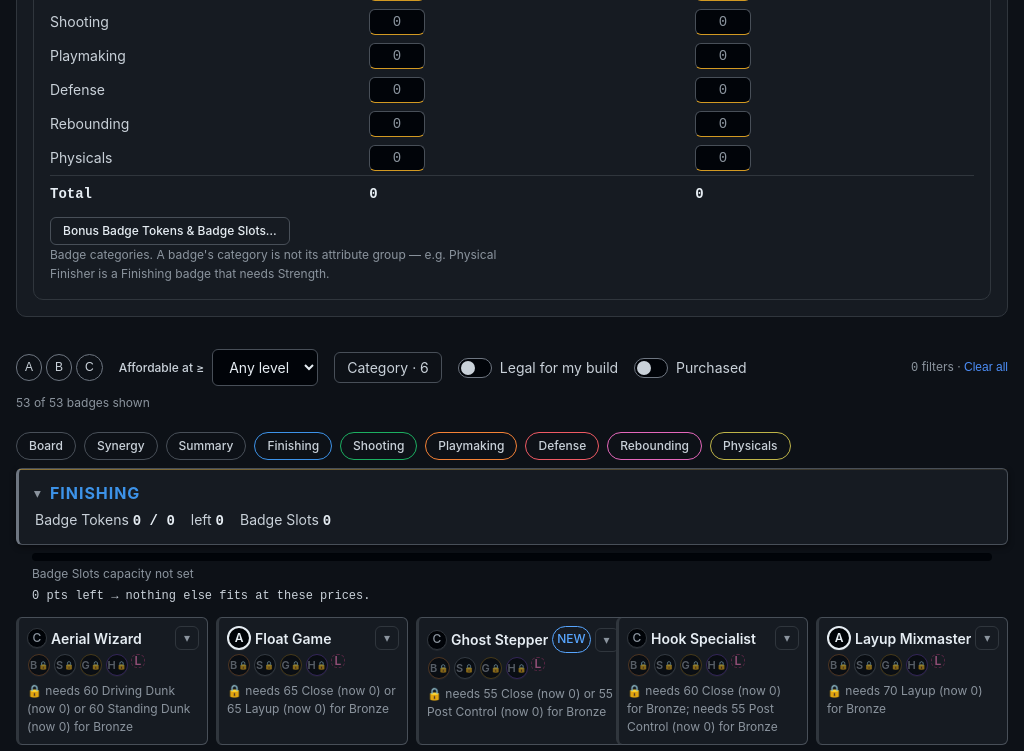
Scenario: category filter + per-category EmptyResults › unchecking a category keeps its section header (the ledger is still true) with the empty body
(page scrolled)
Click the heading "Category · 6". click: x=388, y=368
box: [334,352,442,383]
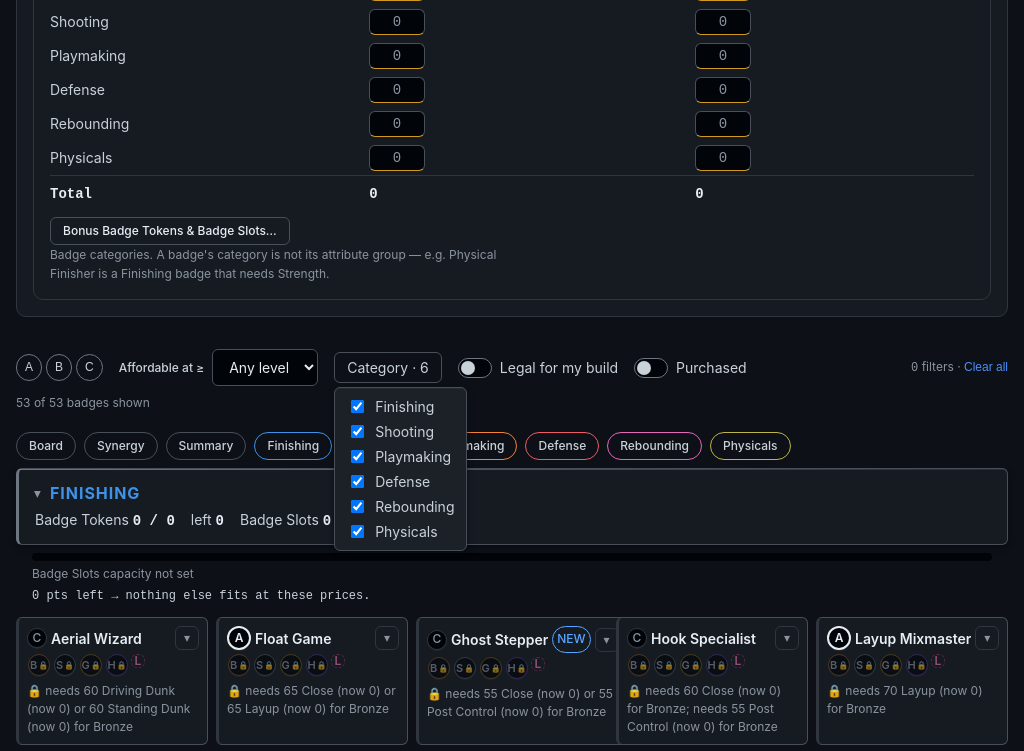
Click the checkbox labelled "Finishing". click: x=358, y=407
box: [351,400,364,413]
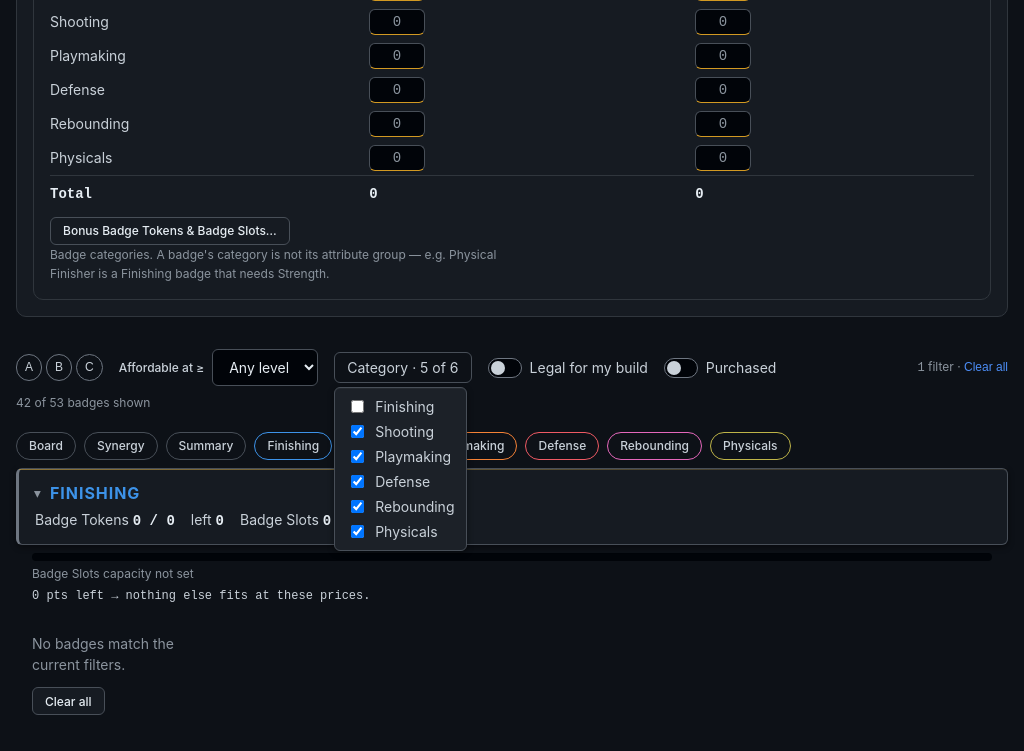
Now the heading "Category · 5 of 6" is shown, box [334,352,472,383]
Now the text "42 of 53 badges shown" is shown, box [16,395,150,410]
Now the element with class "empty-results" is shown, box [32,635,174,715]
